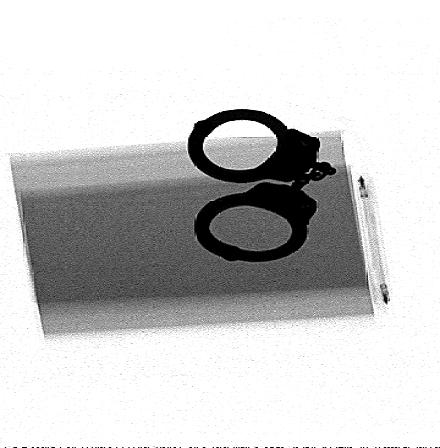HandCuffs: (188, 109, 338, 262)
